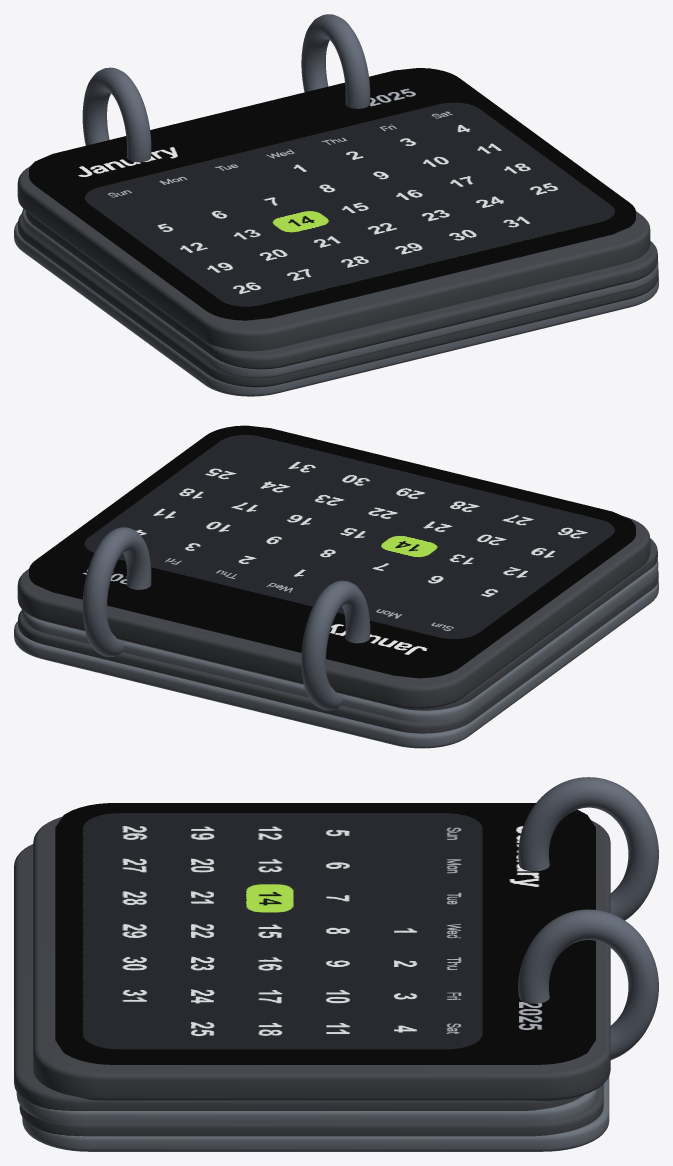
The model's file is dopafit-calendar.glb.
The picture shows the model from 3 angles, top to bottom: view 1: azimuth 30°, elevation 25°; view 2: azimuth 150°, elevation 25°; view 3: azimuth 270°, elevation 25°; orthographic projection. The views are drawn at different scales.
Parts seen in each view (by area): view 1: Page_1_front, Main rounded graphite body, Stack cover 3, Stack cover 0, Stack cover 1, Stack cover 2, Chrome binding ring.001, Chrome binding ring, Page_3_front, Page_2_front; view 2: Page_1_front, Main rounded graphite body, Stack cover 0, Stack cover 1, Stack cover 2, Chrome binding ring, Chrome binding ring.001, Stack cover 3, Page_2_front, Page_3_front; view 3: Page_1_front, Main rounded graphite body, Stack cover 3, Stack cover 0, Chrome binding ring.001, Stack cover 1, Chrome binding ring, Stack cover 2, Page_2_front, Page_3_front.
Boxes of the visible parts, x1,y1,x2,y2 form: Page_1_front: [29, 68, 635, 316]; Main rounded graphite body: [17, 166, 650, 351]; Stack cover 3: [25, 211, 657, 369]; Stack cover 0: [14, 222, 658, 396]; Stack cover 1: [18, 213, 658, 387]; Stack cover 2: [21, 209, 658, 378]; Chrome binding ring.001: [301, 14, 370, 108]; Chrome binding ring: [82, 67, 151, 162]; Page_3_front: [29, 176, 635, 320]; Page_2_front: [29, 173, 635, 318]; Page_1_front: [29, 425, 635, 673]; Main rounded graphite body: [17, 516, 650, 708]; Stack cover 0: [14, 580, 658, 748]; Stack cover 1: [18, 570, 658, 733]; Stack cover 2: [21, 559, 658, 721]; Chrome binding ring: [301, 580, 370, 710]; Chrome binding ring.001: [82, 527, 151, 656]; Stack cover 3: [54, 538, 657, 710]; Page_2_front: [29, 531, 635, 675]; Page_3_front: [29, 533, 635, 678]; Page_1_front: [55, 803, 595, 1059]; Main rounded graphite body: [33, 816, 610, 1100]; Stack cover 3: [14, 844, 583, 1111]; Stack cover 0: [22, 1076, 609, 1151]; Chrome binding ring.001: [518, 909, 658, 1059]; Stack cover 1: [19, 1084, 603, 1136]; Chrome binding ring: [518, 777, 658, 920]; Stack cover 2: [16, 1088, 597, 1123]; Page_2_front: [55, 1035, 595, 1062]; Page_3_front: [55, 1038, 595, 1064].
Bounding box in the file's own units: 5.24 × 1.57 × 5.27.
7 materials, 3 textured.
